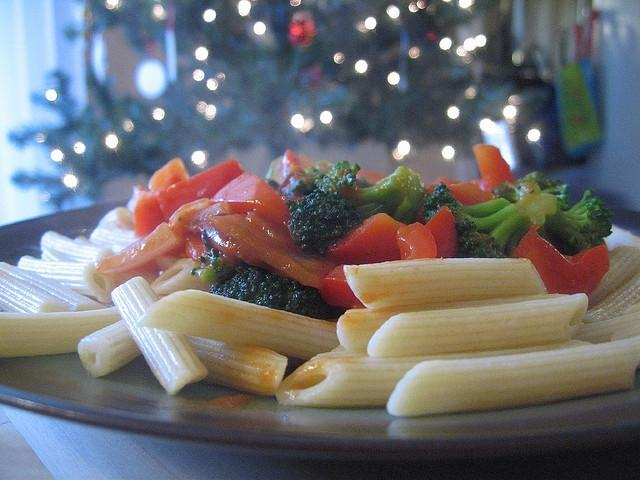broccoli: (286, 161, 426, 255), (421, 182, 534, 258), (209, 261, 347, 323), (542, 190, 614, 256), (491, 171, 571, 226)
